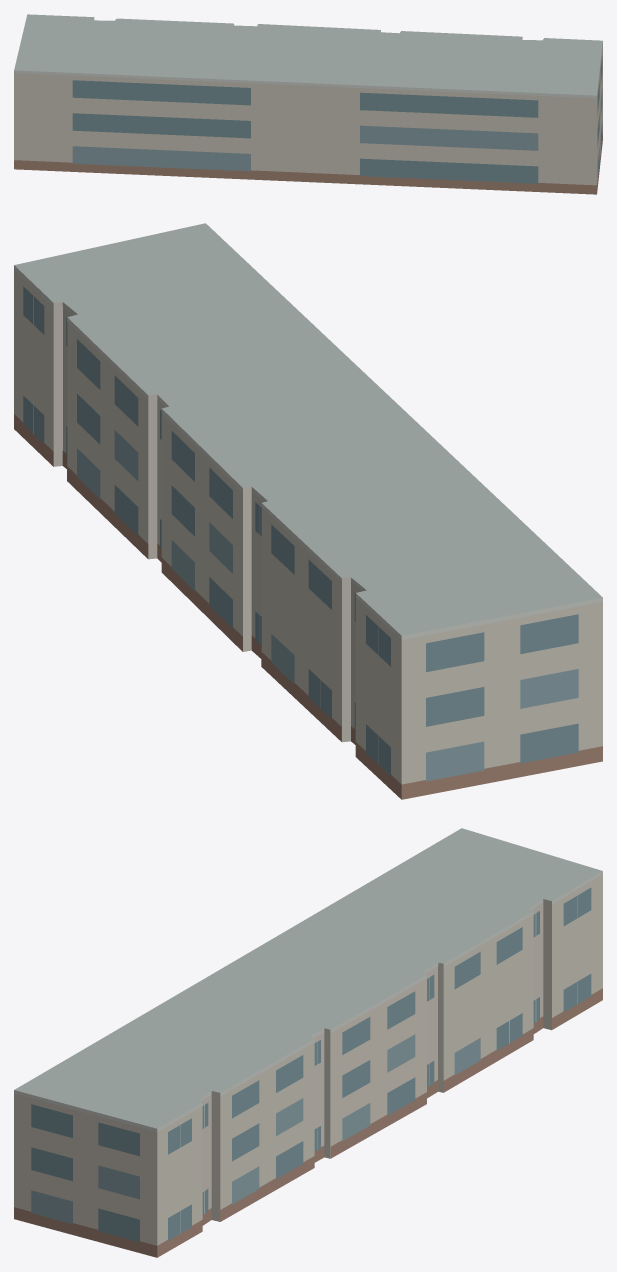
Rendered from survey-upis-32971873.glb.
3 renders of one model, top to bottom at view 1: azimuth 30°, elevation 25°; view 2: azimuth 150°, elevation 25°; view 3: azimuth 270°, elevation 25°, orthographic. The views are drawn at different scales.
Parts seen in each view (by area): view 1: survey-upis-32971873.tmp; view 2: survey-upis-32971873.tmp; view 3: survey-upis-32971873.tmp.
Boxes of the visible parts, x1,y1,x2,y2 form: survey-upis-32971873.tmp: (14, 14, 602, 194); survey-upis-32971873.tmp: (14, 223, 602, 799); survey-upis-32971873.tmp: (14, 828, 602, 1257).
Size of the model in its own units: 45.7 by 9.15 by 37.83.
